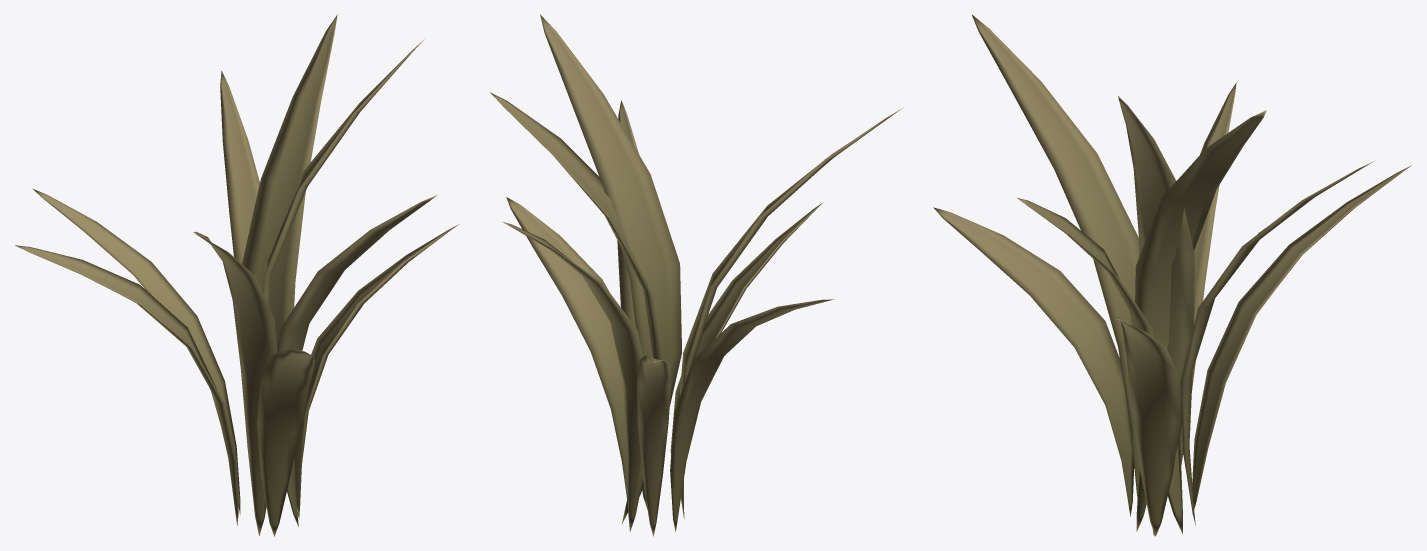
Rendered from dry-tuft-2.glb.
3 renders of one model, left to right at view 1: azimuth 30°, elevation 25°; view 2: azimuth 150°, elevation 25°; view 3: azimuth 270°, elevation 25°, orthographic. The views are drawn at different scales.
Visible parts, largest first — view 1: DryTuft2; view 2: DryTuft2; view 3: DryTuft2.
Part boxes in pixels (<box>): DryTuft2: <box>15,14,459,536</box>; DryTuft2: <box>490,14,903,536</box>; DryTuft2: <box>933,14,1411,536</box>.
Size of the model in its own units: 0.6282 by 0.7202 by 0.6281.
